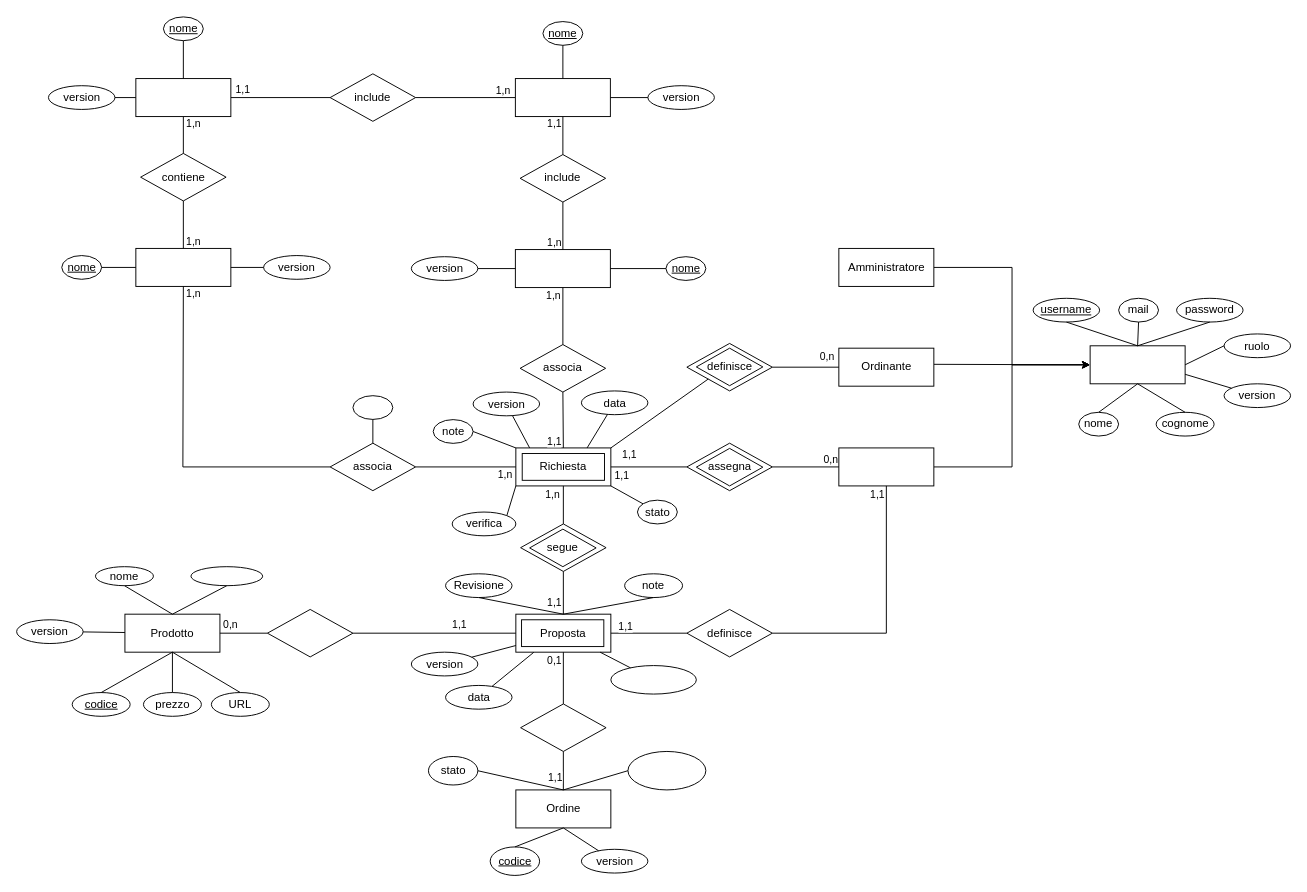
Some shapes in this 1307 by 892 pixel diagram are drawn without their labels. Here are the shapes that lost their labels. From the top down, the centre of each, then its label:
At (183,97): "Micro-Categoria".
At (562,97): "Sotto-Categoria".
At (183,266): "Caratteristica".
At (562,268): "Categoria".
At (1137,364): "Utente".
At (372,407): "valore".
At (886,466): "Tecnico".
At (226,576): "produttore".
At (309,632): "propone".
At (653,679): "rev_motivazione".
At (563,727): "diventa".
At (666,770): "data di consegna".
